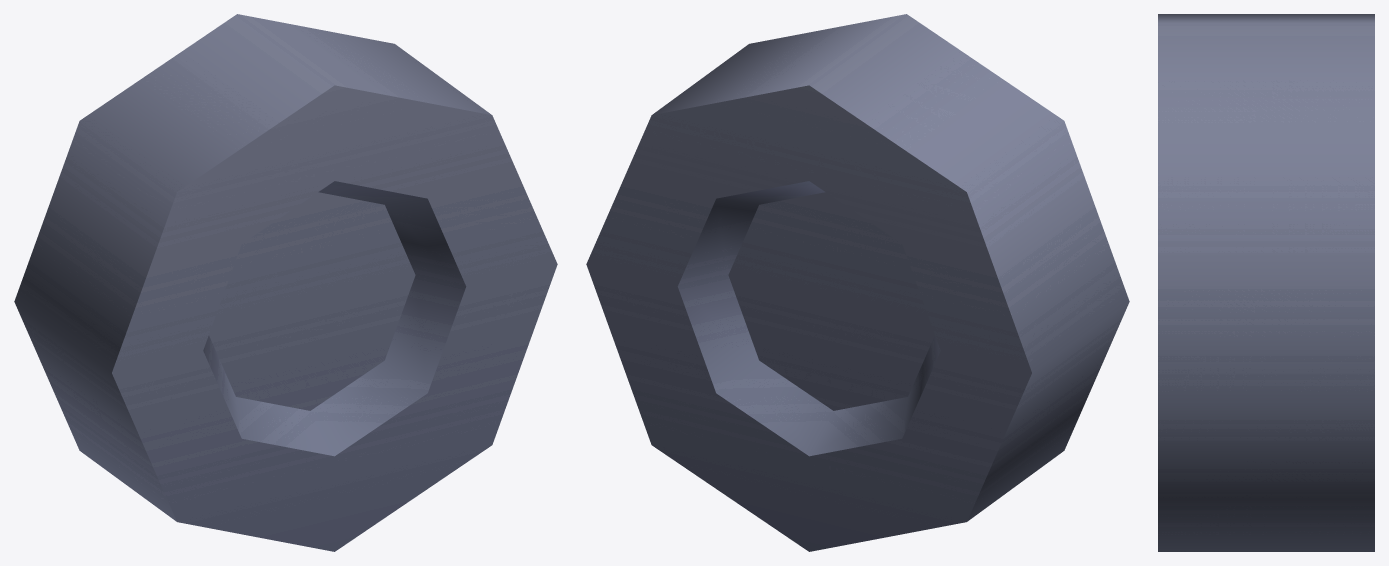
Rendered from item-coin-silver.glb.
The picture shows the model from 3 angles, left to right: view 1: azimuth 30°, elevation 25°; view 2: azimuth 150°, elevation 25°; view 3: azimuth 270°, elevation 25°; orthographic projection. The views are drawn at different scales.
Visible parts, largest first — view 1: item-coin-silver; view 2: item-coin-silver; view 3: item-coin-silver.
Part boxes in pixels (bbox=[...]): item-coin-silver: bbox=[14, 14, 557, 551]; item-coin-silver: bbox=[586, 14, 1129, 551]; item-coin-silver: bbox=[1158, 14, 1374, 551].
Bounding box in the file's own units: 0.792 × 0.792 × 0.3.
Materials: 1 (1 with a texture image).
